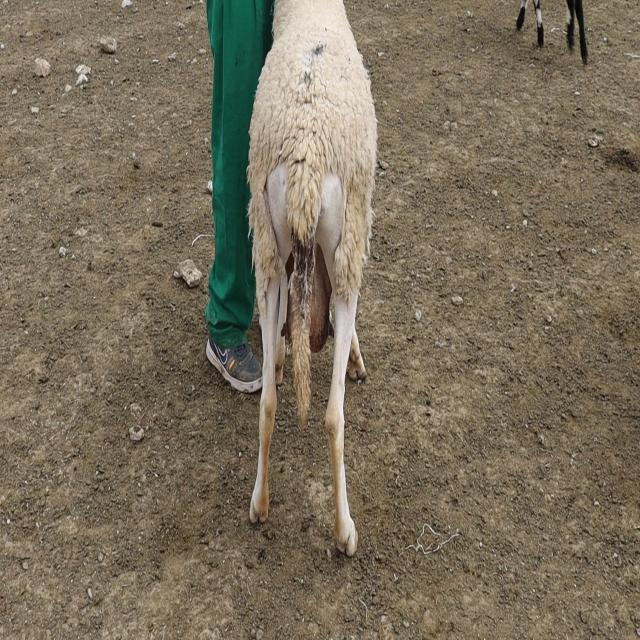Score_2: (247, 0, 377, 556)
